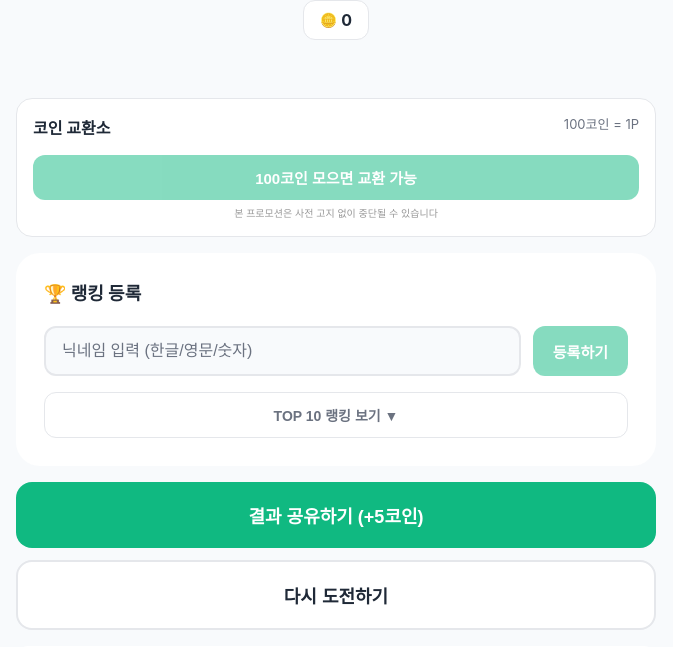
Test: ResultPage › 토글 버튼 인터랙션 › should toggle rankings when button clicked
(page scrolled)
Click the button "TOP 10 랭킹 보기 ▼" at (336, 415), box [44, 392, 628, 438]
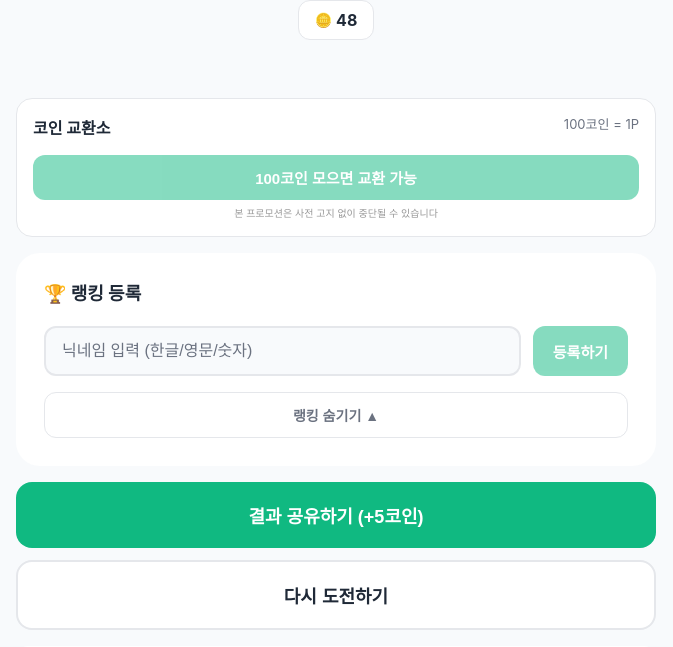
Check: the button "랭킹 숨기기 ▲" is shown, box [44, 392, 628, 438]
